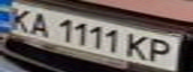1: (51, 16, 75, 43), (84, 22, 106, 51), (103, 26, 124, 54), (69, 19, 90, 46)
A: (24, 10, 57, 38)
K: (0, 3, 39, 33), (124, 32, 154, 61)
P: (145, 36, 181, 65)
